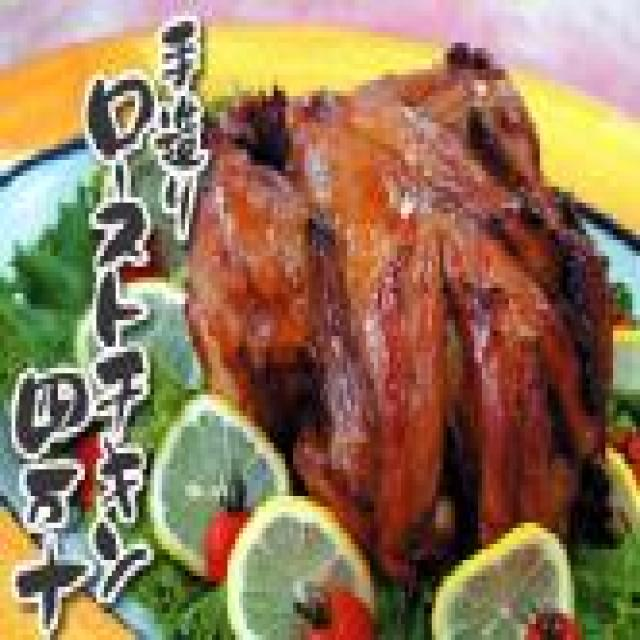鸡肉料理 含炸鸡: (223, 0, 640, 640)
